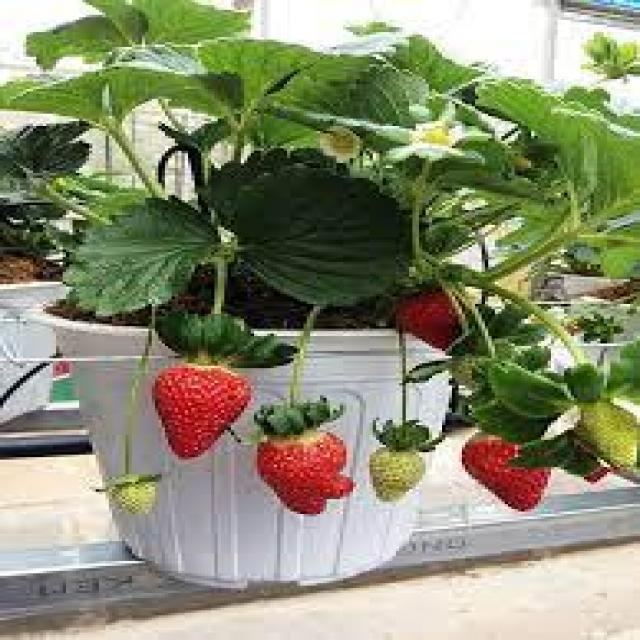Fruta sana: (146, 362, 245, 462), (254, 429, 356, 514), (459, 429, 558, 510), (388, 282, 478, 353)
